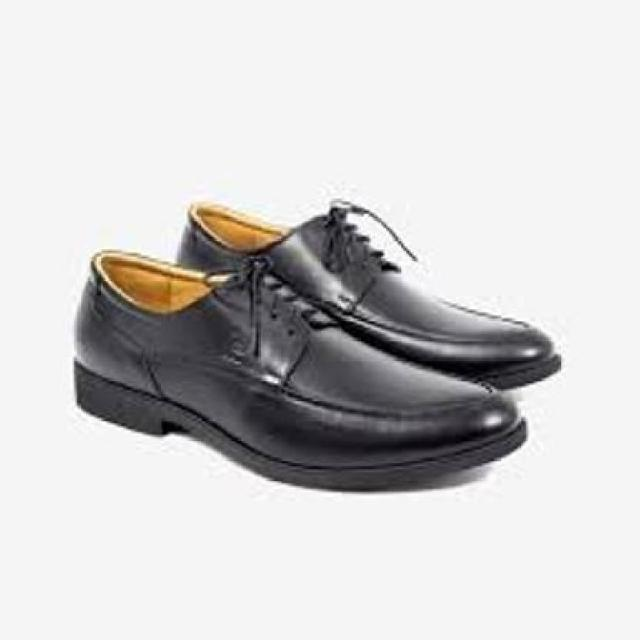not trash: (70, 198, 562, 485)
